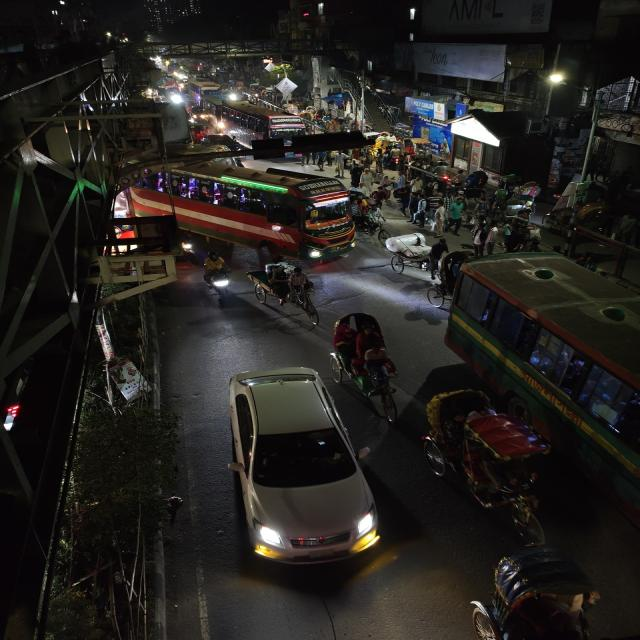bus: (434, 256, 640, 629), (126, 162, 362, 261), (217, 102, 303, 145)
car: (212, 363, 378, 585)
motorcycle: (198, 251, 236, 305)
pedestrian: (470, 220, 496, 256), (407, 192, 429, 226), (445, 200, 465, 236), (370, 184, 390, 212), (348, 162, 366, 189), (433, 202, 447, 235)
rickshaw: (421, 388, 550, 530), (467, 545, 618, 640), (327, 308, 405, 402), (245, 263, 326, 330), (382, 232, 448, 278)
